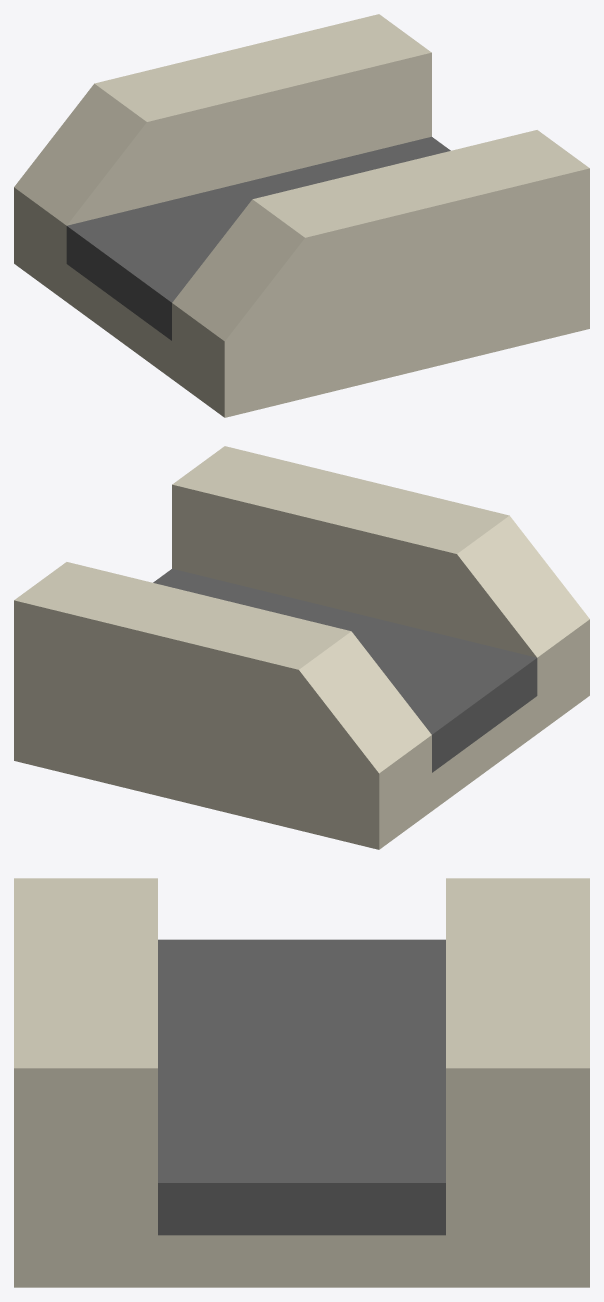
Rendered from tile007.fbx.
The picture shows the model from 3 angles, top to bottom: view 1: azimuth 30°, elevation 25°; view 2: azimuth 150°, elevation 25°; view 3: azimuth 270°, elevation 25°; orthographic projection. The views are drawn at different scales.
Parts seen in each view (by area): view 1: tile007; view 2: tile007; view 3: tile007.
Boxes of the visible parts, <box> form: tile007: <box>14,14,589,417</box>; tile007: <box>14,446,589,849</box>; tile007: <box>14,878,589,1287</box>.
Bounding box in the file's own units: 10 × 4.2 × 10.
